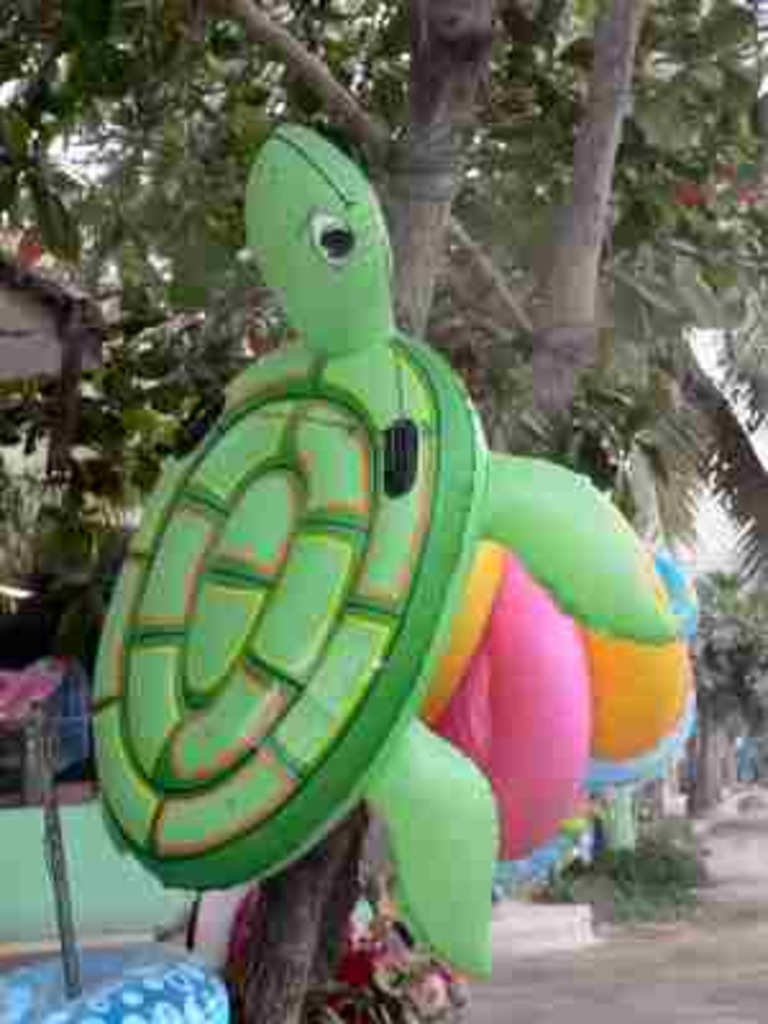Sea turtles: (79, 115, 673, 977)
